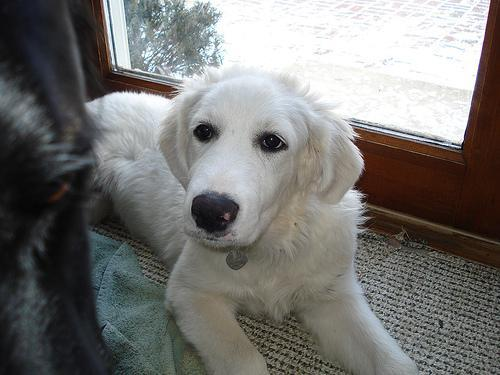Great_Pyrenees: (82, 68, 422, 374)
